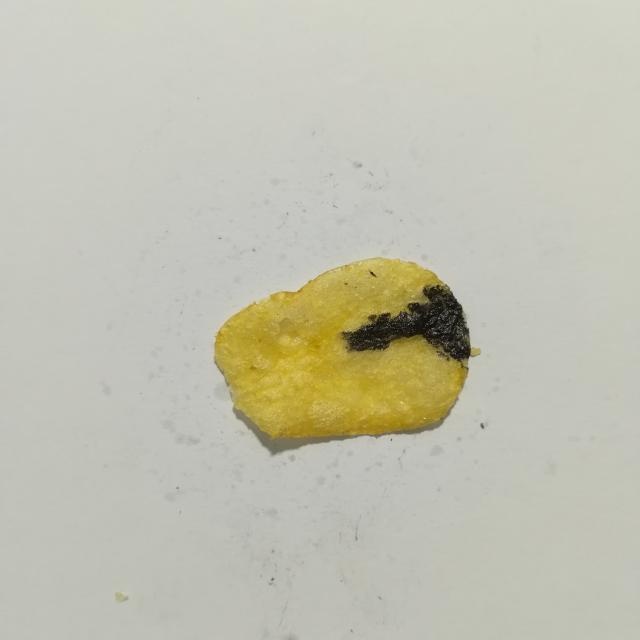chip: (214, 258, 480, 438)
damaged: (341, 285, 471, 361), (368, 314, 377, 321), (369, 270, 376, 278)
